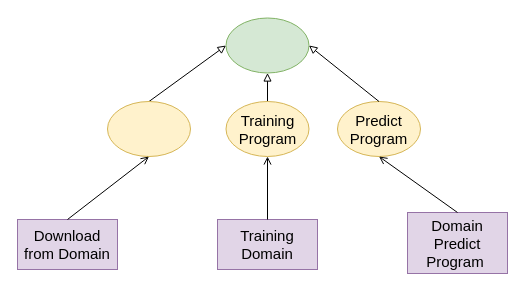
The diagram is 525 pixels wide and 291 high, and some of its shapes have lost their labels. Each missing label, with the box of its shape:
Download Program: (106, 100, 190, 156)
Program: (225, 17, 309, 73)
